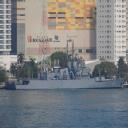Fragata: (5, 38, 127, 92)
